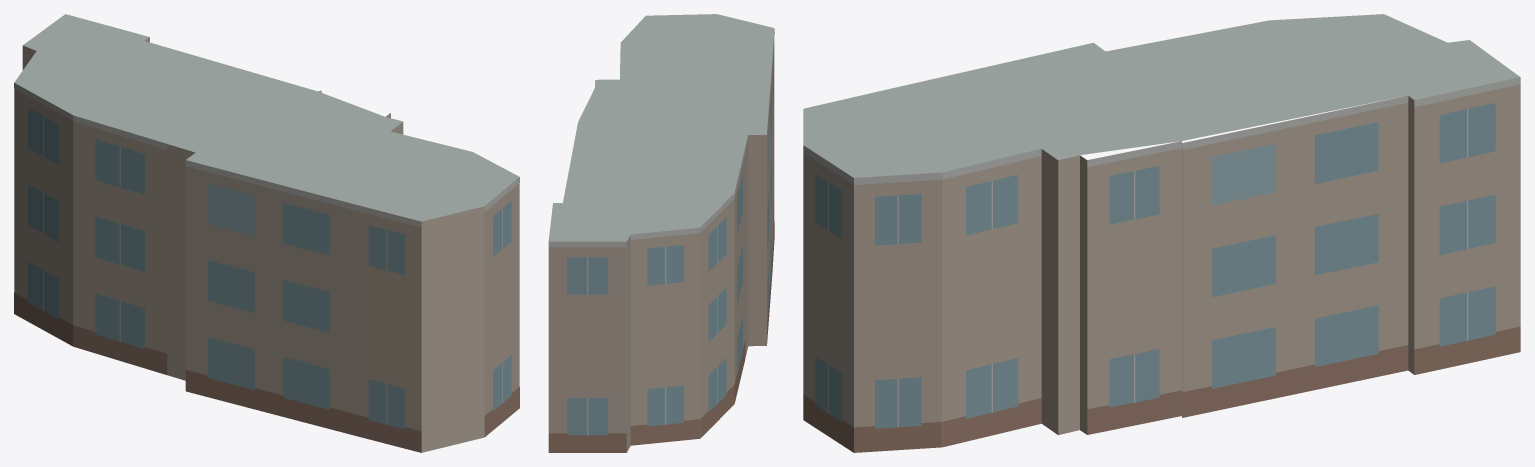
Rendered from survey-upis-32479302.glb.
3 renders of one model, left to right at view 1: azimuth 30°, elevation 25°; view 2: azimuth 150°, elevation 25°; view 3: azimuth 270°, elevation 25°, orthographic. The views are drawn at different scales.
Visible parts, largest first — view 1: survey-upis-32479302.tmp; view 2: survey-upis-32479302.tmp; view 3: survey-upis-32479302.tmp.
Boxes of the visible parts, x1,y1,x2,y2 form: survey-upis-32479302.tmp: (14, 14, 519, 452); survey-upis-32479302.tmp: (548, 14, 774, 452); survey-upis-32479302.tmp: (803, 14, 1520, 452).
Size of the model in its own units: 12.04 by 9.4 by 22.24.
